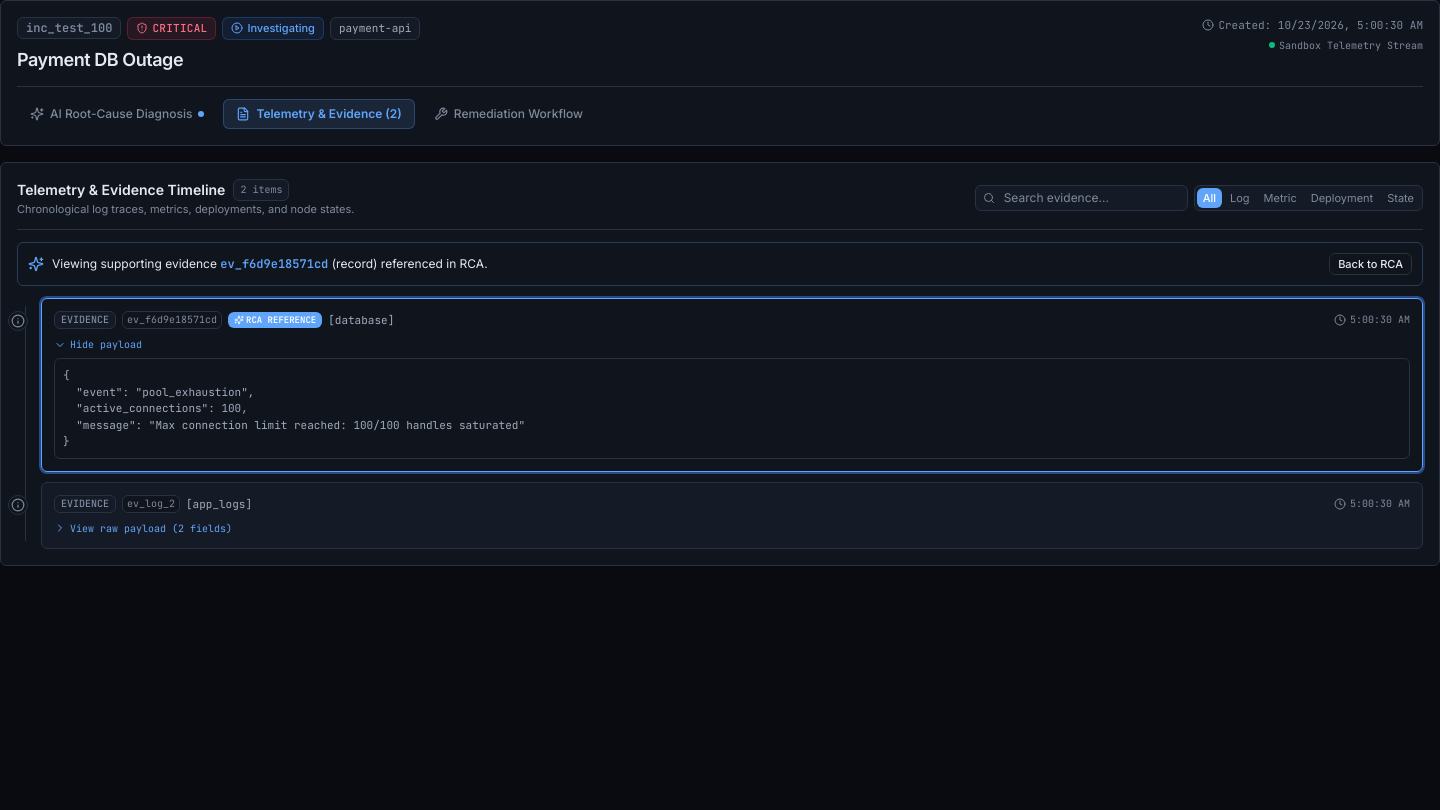
Evidence Link Navigation & URL-State Synchronization › clicking tabs directly clears the evidence hash if leaving evidence tab
Step 1. Click the button with test id "tab-rca-btn" → [117, 114], box [17,98,217,128]
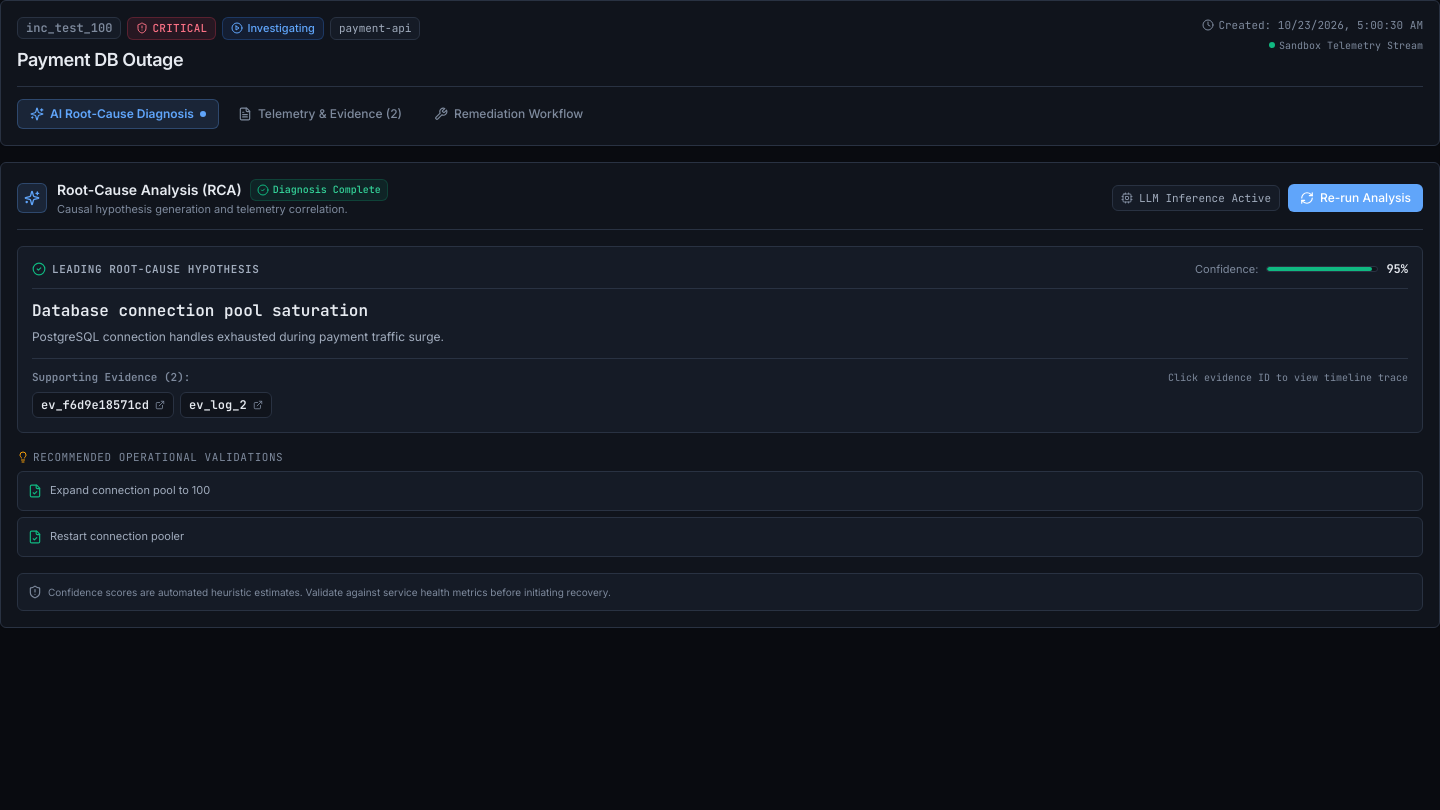
Expected: the heading "Database connection pool saturation" is shown, [32,300,368,320]
